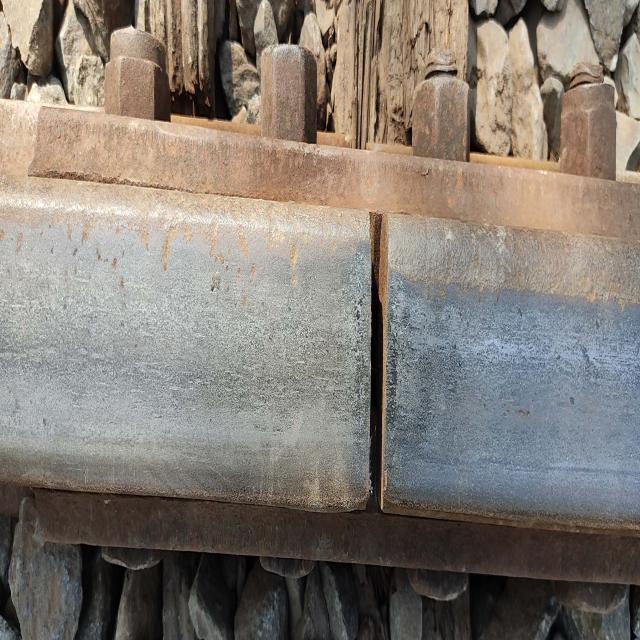Good Joint: (0, 28, 640, 640)
